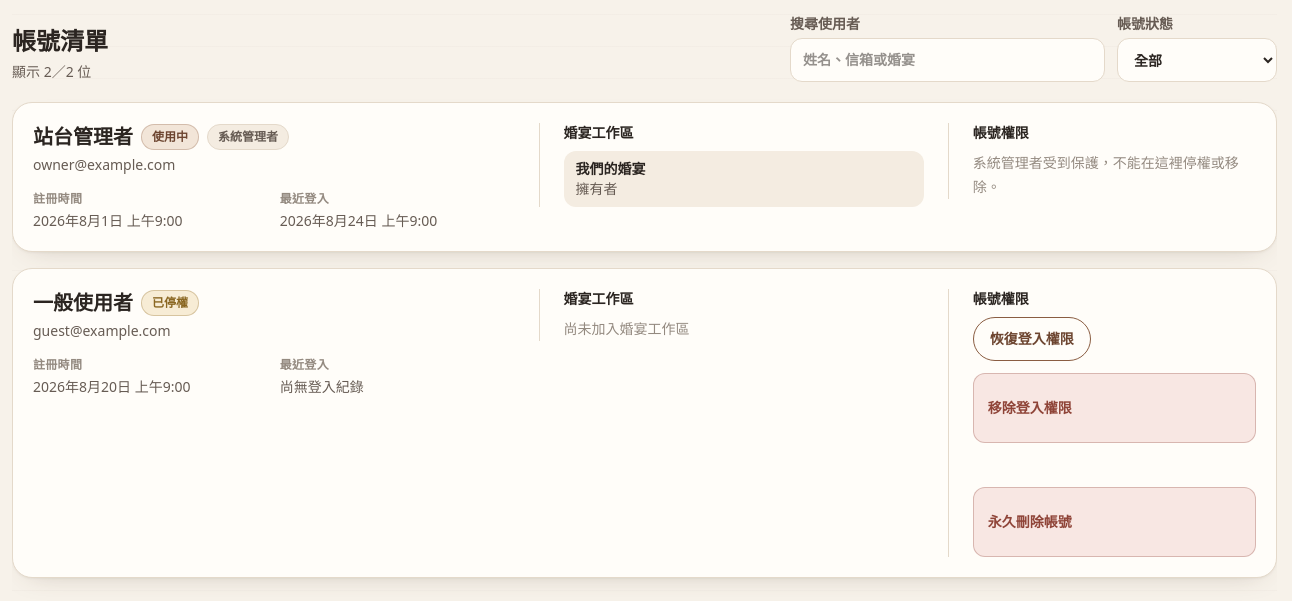
it: SystemUserList › filters by name, email, workspace, and account state without another request
Step 1. Type "guest@" into the search field labelled "搜尋使用者" → (948, 60), box [790,38,1105,82]
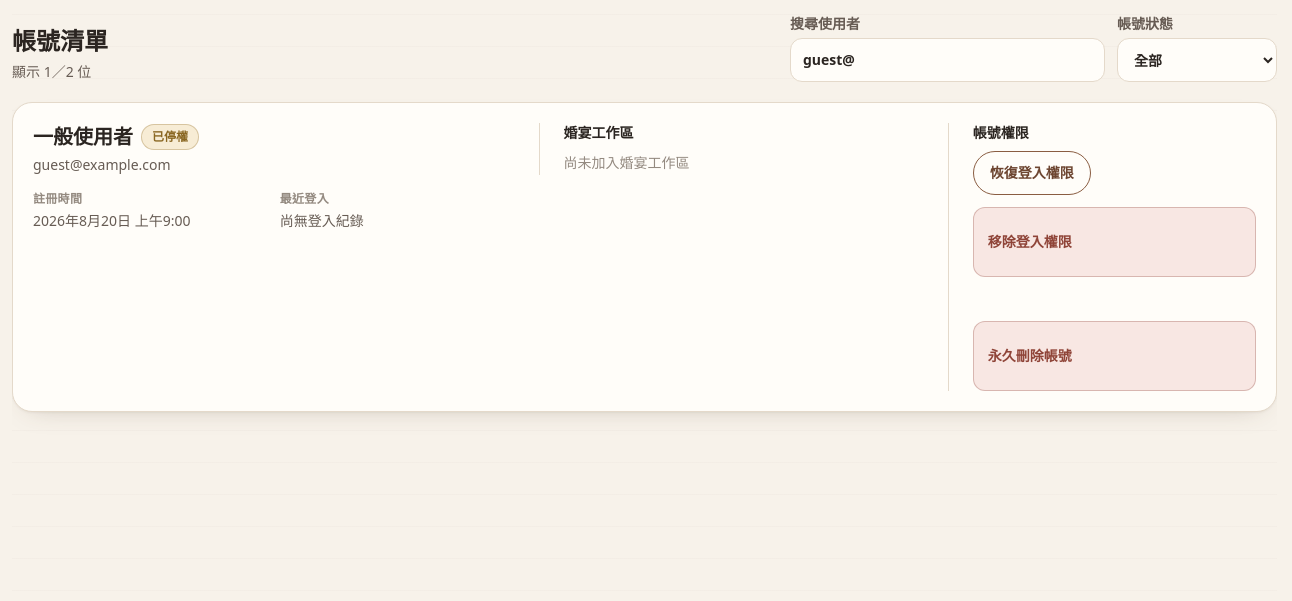
Expected: the heading "一般使用者" is shown, [33,123,133,151]
Expected: the heading "站台管理者" is gone
Step 2. Clear the search field labelled "搜尋使用者" → (948, 60), box [790,38,1105,82]
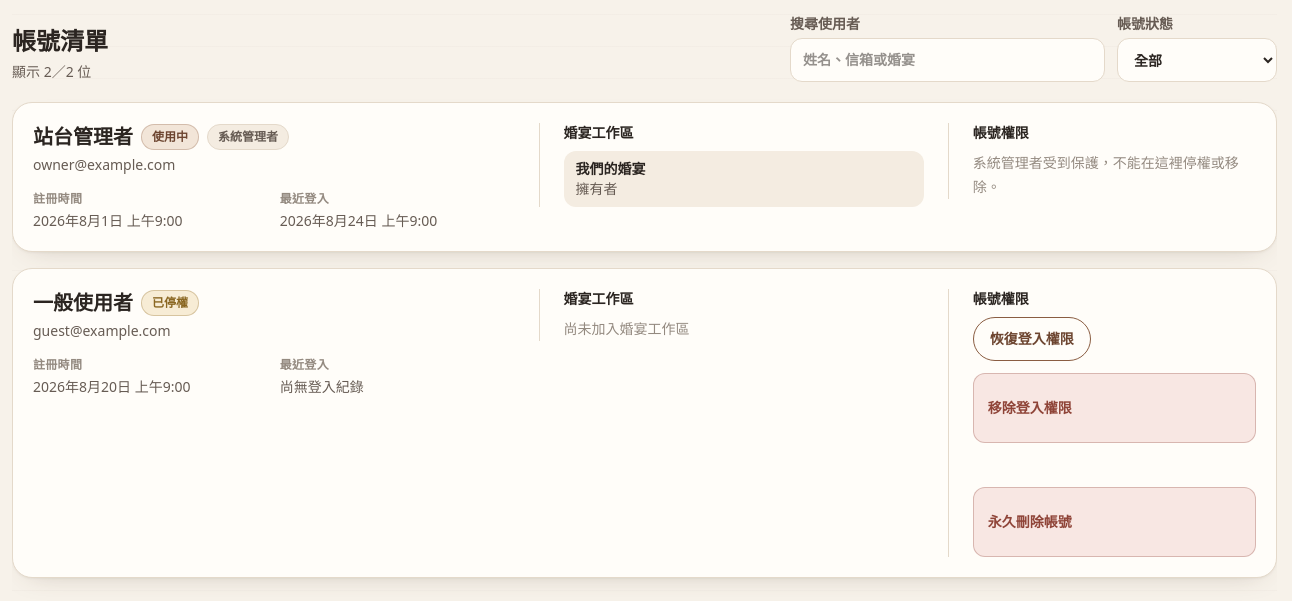
Step 3. Select "使用中" in the dropdown labelled "帳號狀態" → (1197, 60), box [1117,38,1277,82]
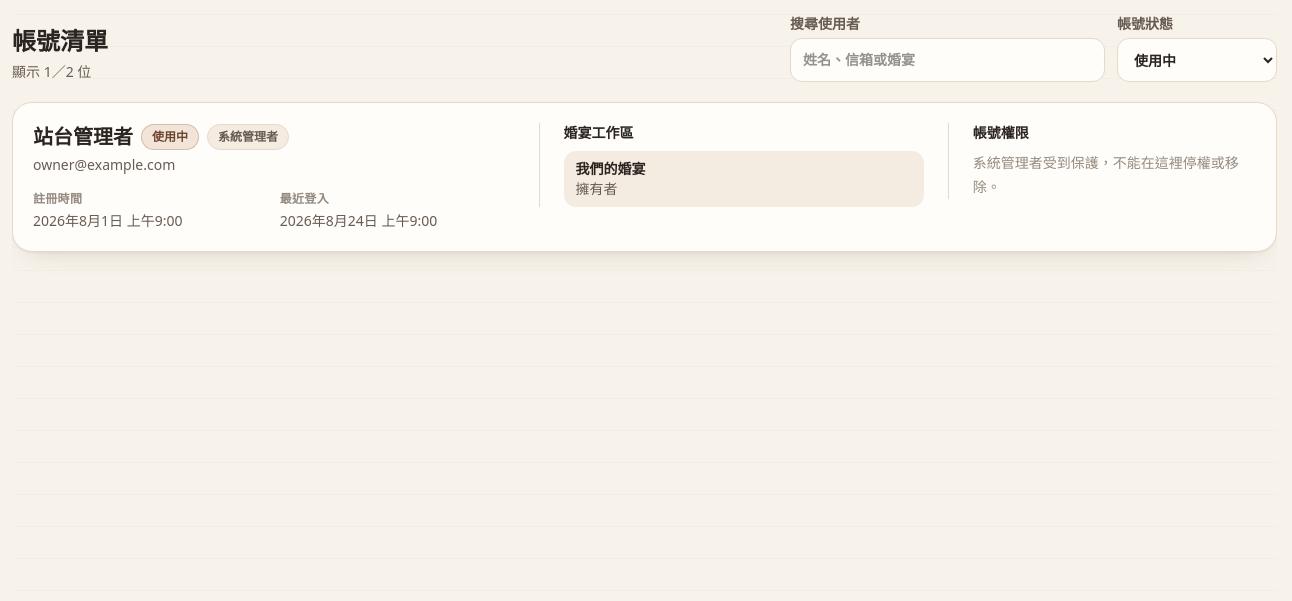
Expected: the heading "站台管理者" is shown, [33,123,133,151]
Expected: the heading "一般使用者" is gone
